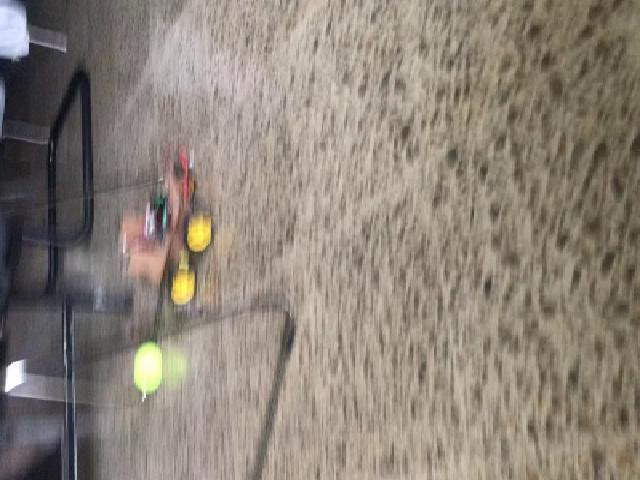Ball: (133, 342, 162, 391)
Robot: (118, 170, 211, 305)
